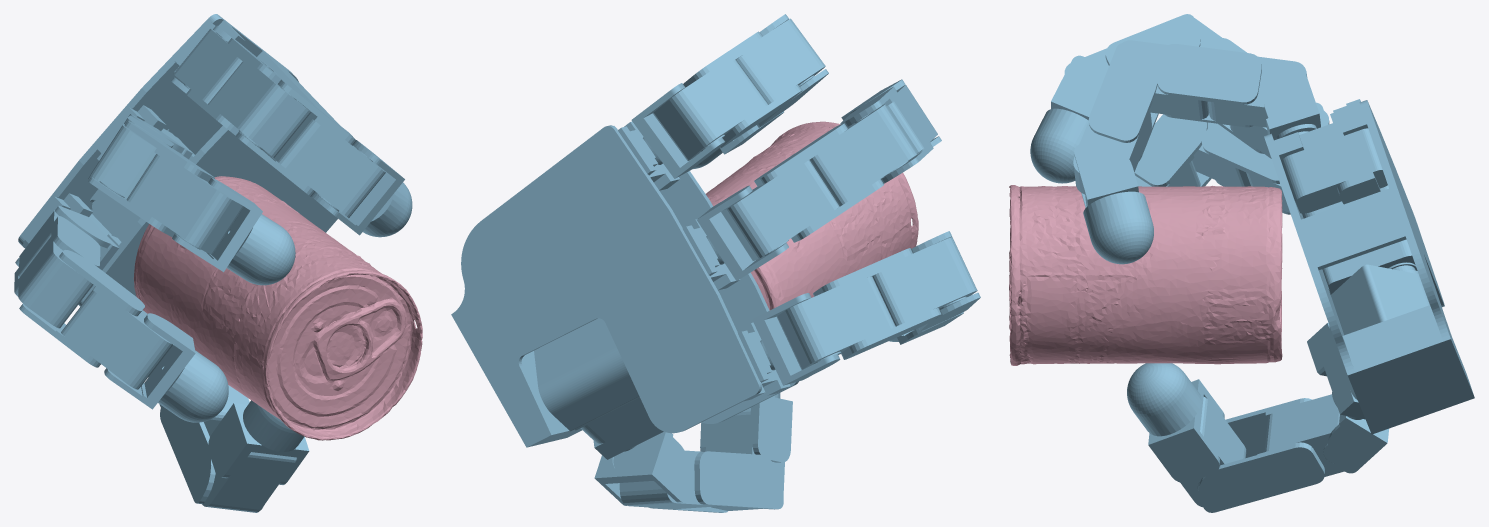
The picture shows the model from 3 angles, left to right: view 1: azimuth 30°, elevation 25°; view 2: azimuth 150°, elevation 25°; view 3: azimuth 270°, elevation 25°; orthographic projection.
Visible parts, largest first — view 1: world; view 2: world; view 3: world.
Part boxes in pixels (bbox=[...]): world: bbox=[14, 14, 422, 512]; world: bbox=[451, 14, 980, 512]; world: bbox=[1009, 14, 1474, 512].
Bounding box in the file's own units: 0.174 × 0.1901 × 0.1736.
